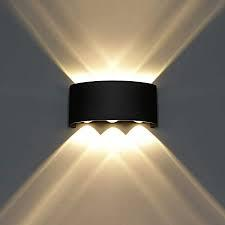Lamp: (44, 60, 172, 145)
